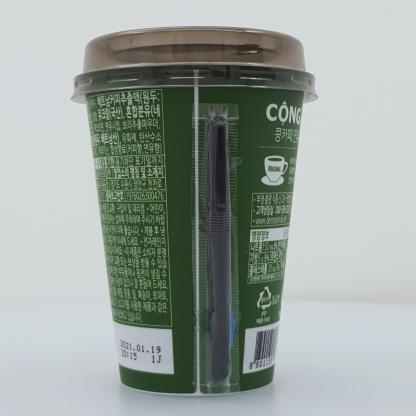---------: (70, 26, 319, 397)
